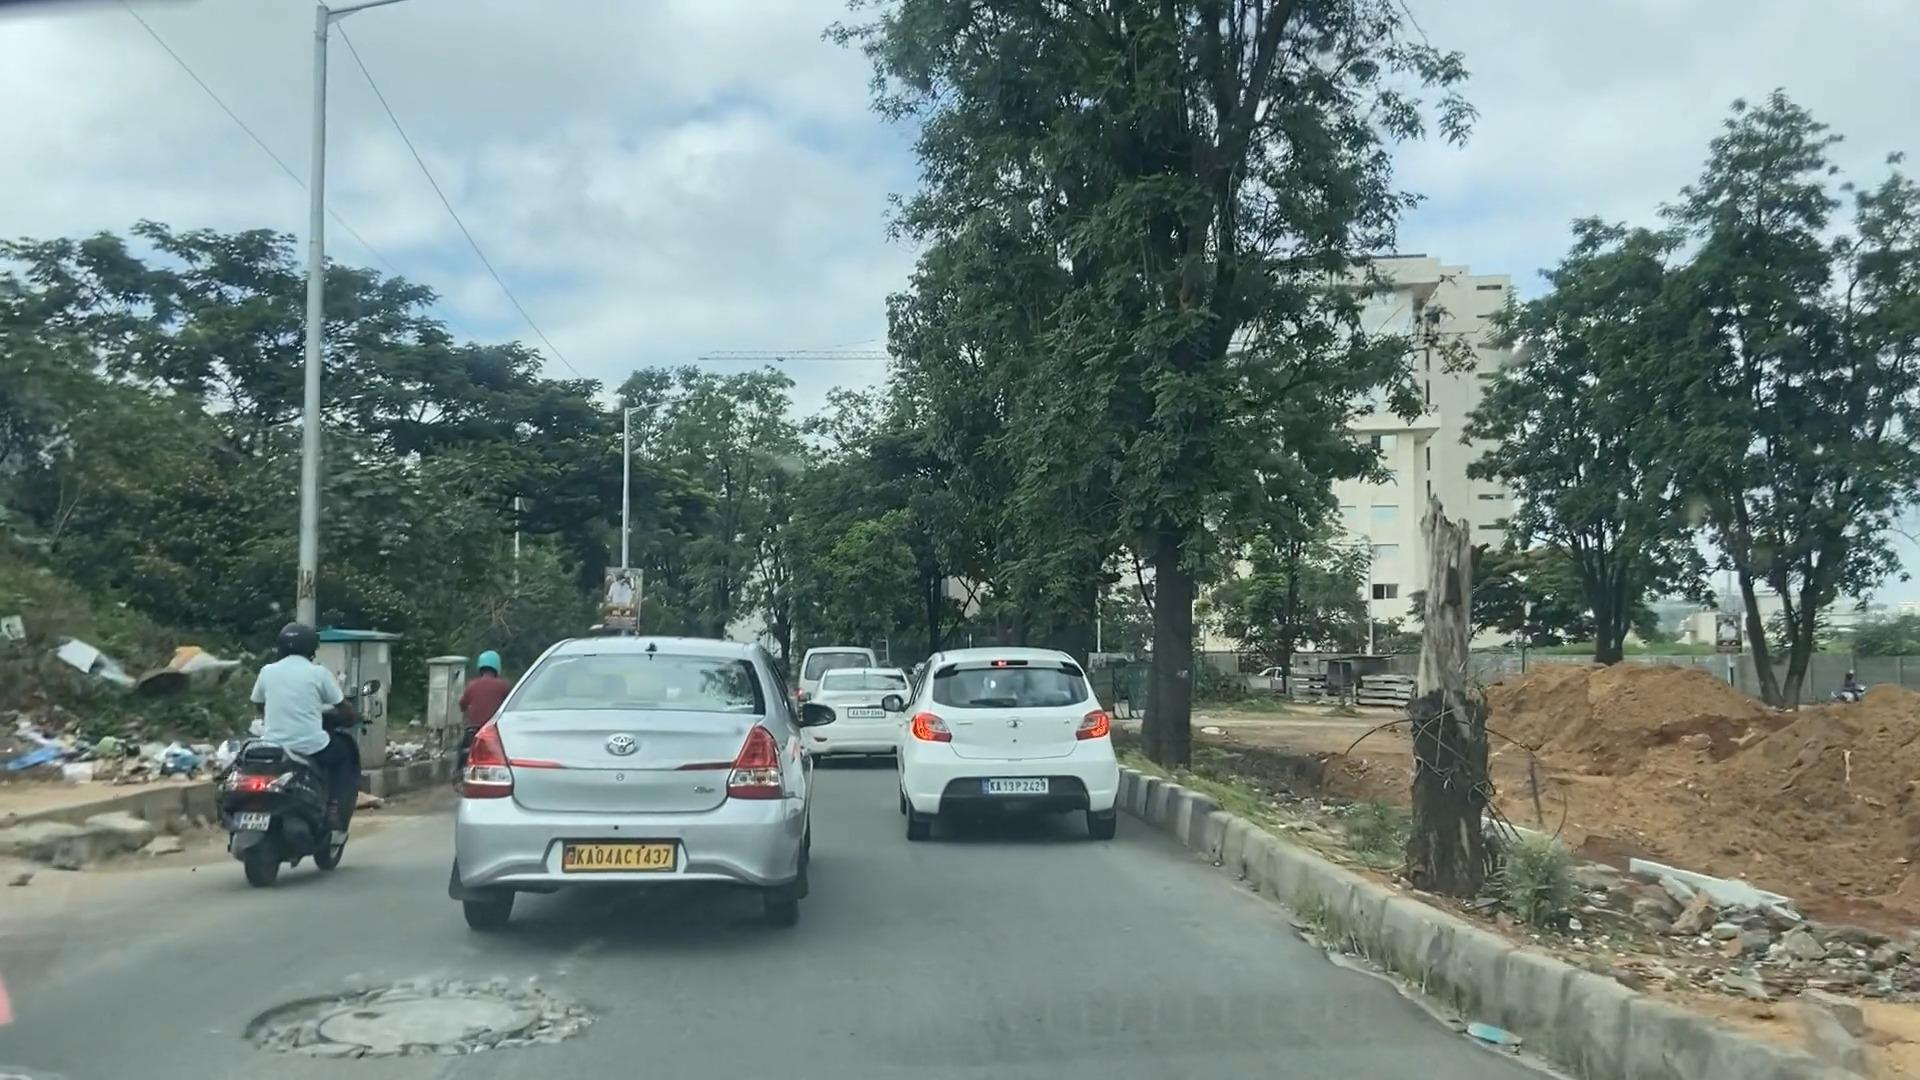LMV: (483, 658, 782, 884), (232, 628, 353, 852), (934, 658, 1097, 807)
RoadDamages: (218, 960, 646, 1073)
